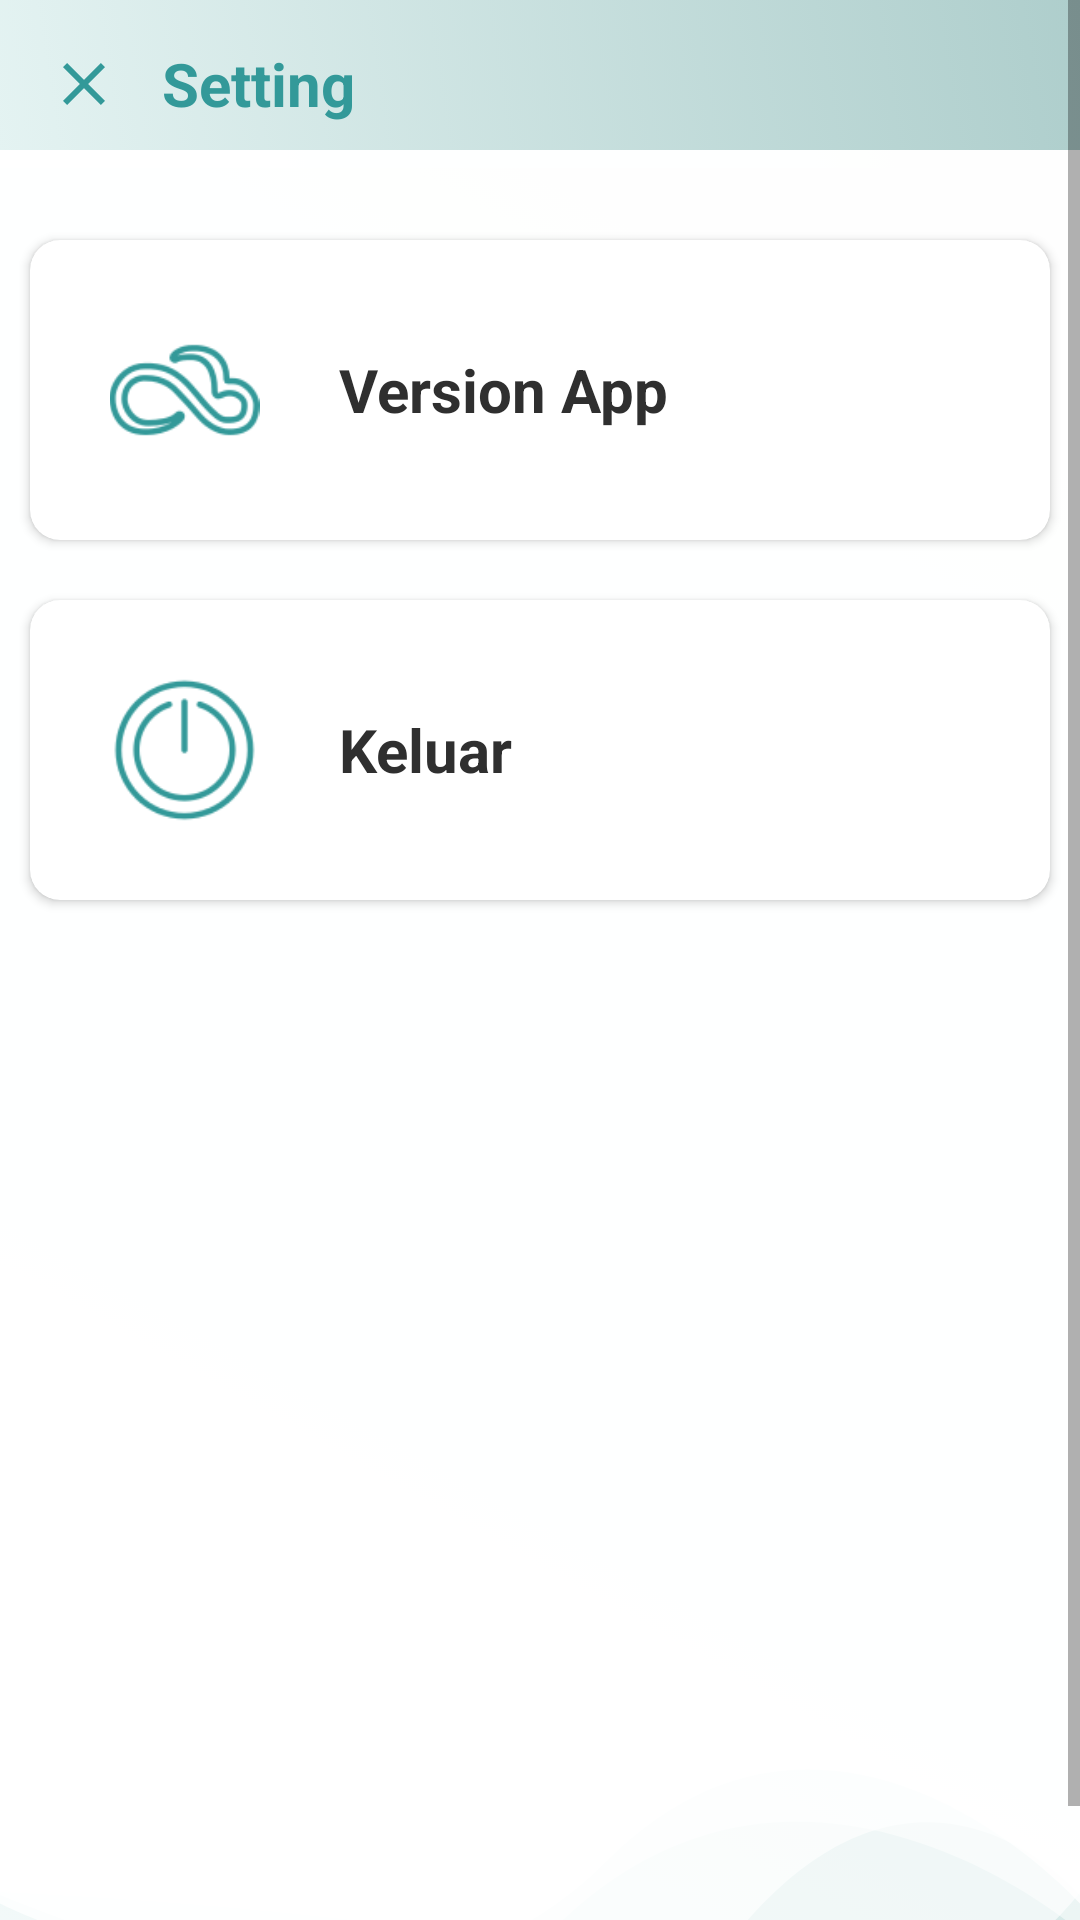

Named icons in this screenshot (1080 x 1920) and their bounding boxes, [x1=x1, y1=y1, x2=x2, y2=y2]:
close: [x1=63, y1=63, x2=105, y2=105]
